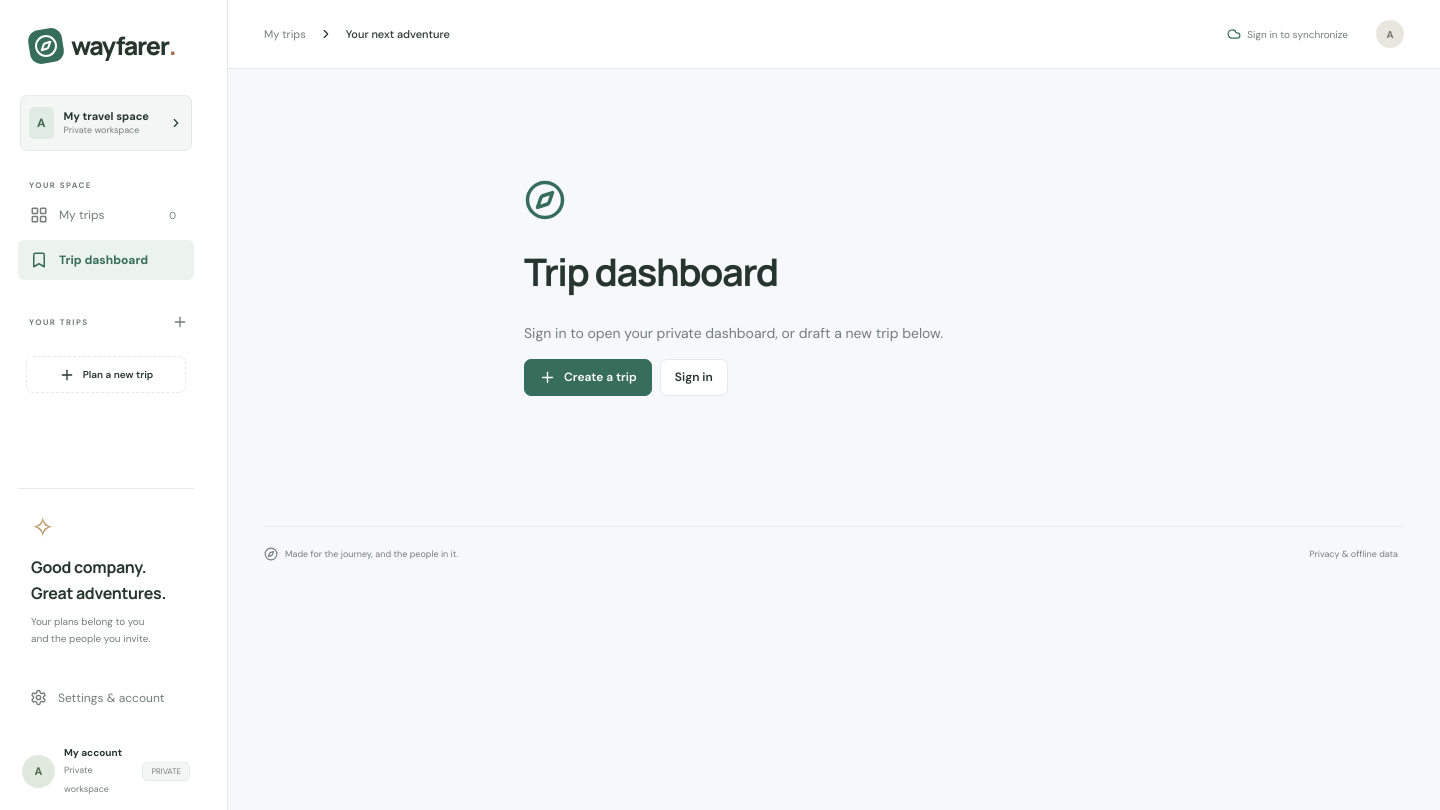
Scenario: signed out: A My travel spacePrivate workspace opens the trip library
Expected: the heading "Trip dashboard" is shown, [524,245,778,297]
Click the button named "A My travel spacePrivate workspace": (106, 123) [20,95,192,151]
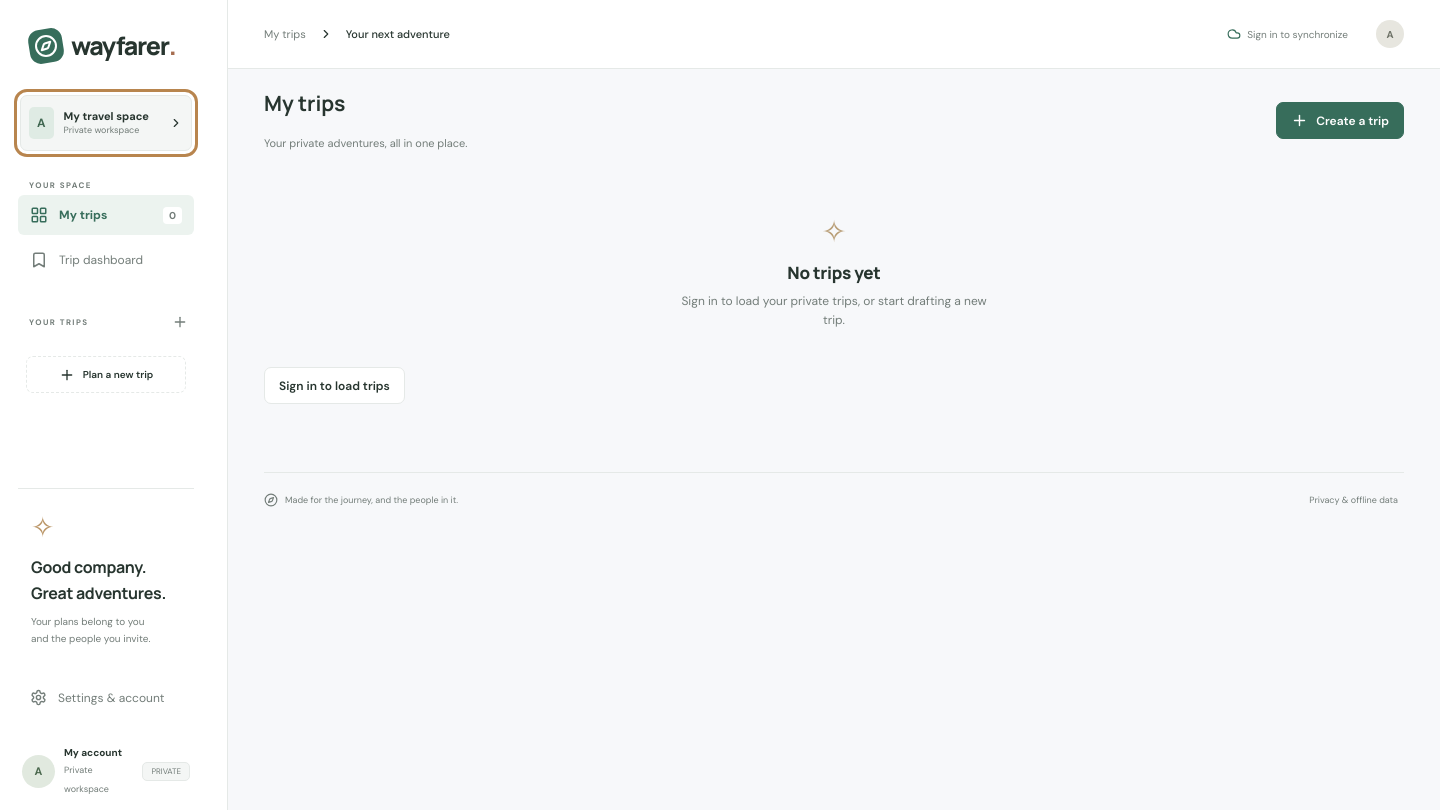
Expected: the heading "My trips" is shown, [264,89,345,117]
Expected: the heading "No trips yet" is shown, [787,261,881,284]
